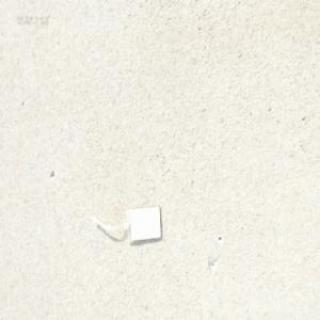LuggageTagtrack_idkeyframe: (90, 202, 164, 246)
